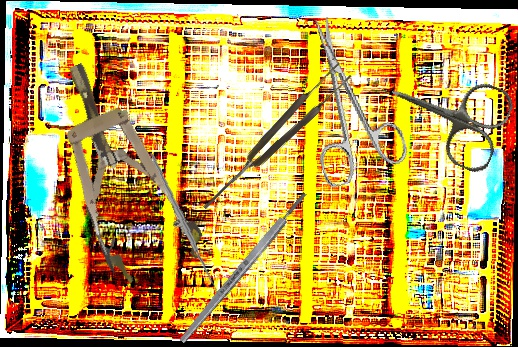Hook Surgical: (138, 153, 240, 298)
Iris Scissors: (282, 5, 412, 190), (375, 50, 518, 177)
Scalpel Handle: (177, 190, 310, 345)
Speculum: (30, 45, 211, 292)
Tissue Forceps: (194, 61, 355, 216)
